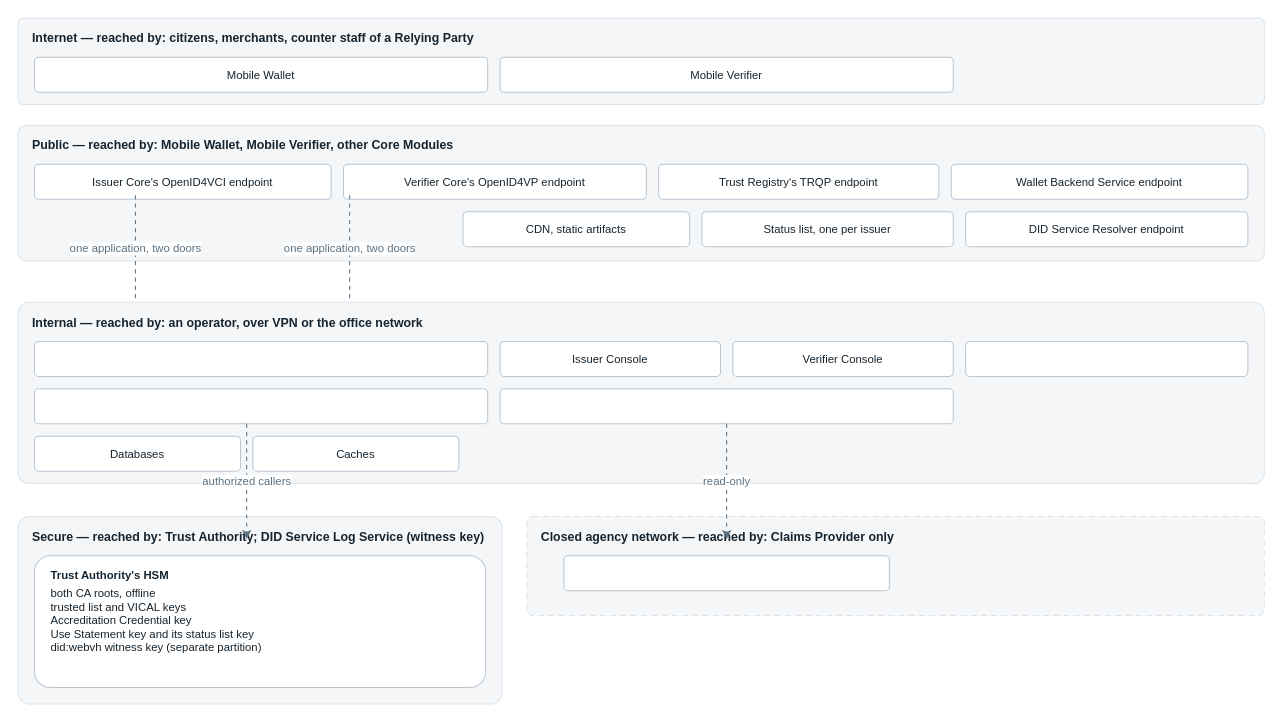
The diagram is 1282 pixels wide and 722 high, and some of its shapes have lost their labels. The centre of each missing label's shape, as x and y in pixels:
"Admin API (Issuer Core, Verifier Core, DID Service)" belongs at (x=260, y=358).
"Claims Provider" belongs at (x=726, y=406).
"DID Service Publisher endpoint" belongs at (x=1106, y=358).
"Source systems" belongs at (x=726, y=573).
"Trust Authority, back office and portal" belongs at (x=260, y=406).
